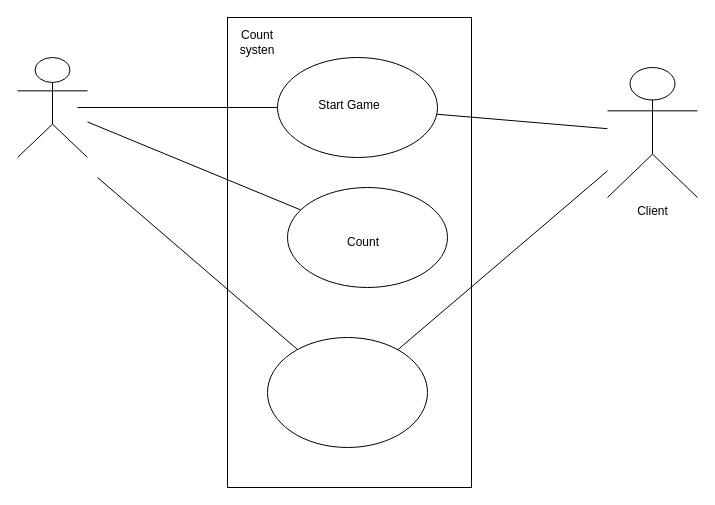
Some shapes in this 715 by 505 pixel diagram are drawn without their labels. The shapes that lost their labels are listed below. From the top down, each one's centre as x and y in pixels, then its label:
At point (52, 107): "Systen".
At point (347, 392): "Match Time".
